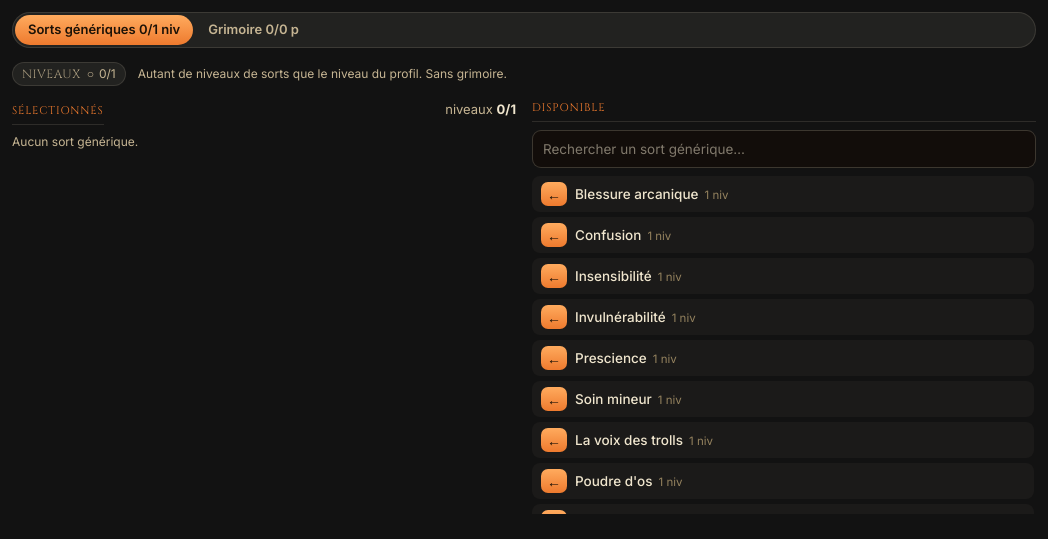
it: MagiePanel (vue) › propose les trois paliers de grimoire et le compteur de pages
Click the radio button "Grimoire 0/0 p": {"x": 254, "y": 30} [195, 15, 312, 44]
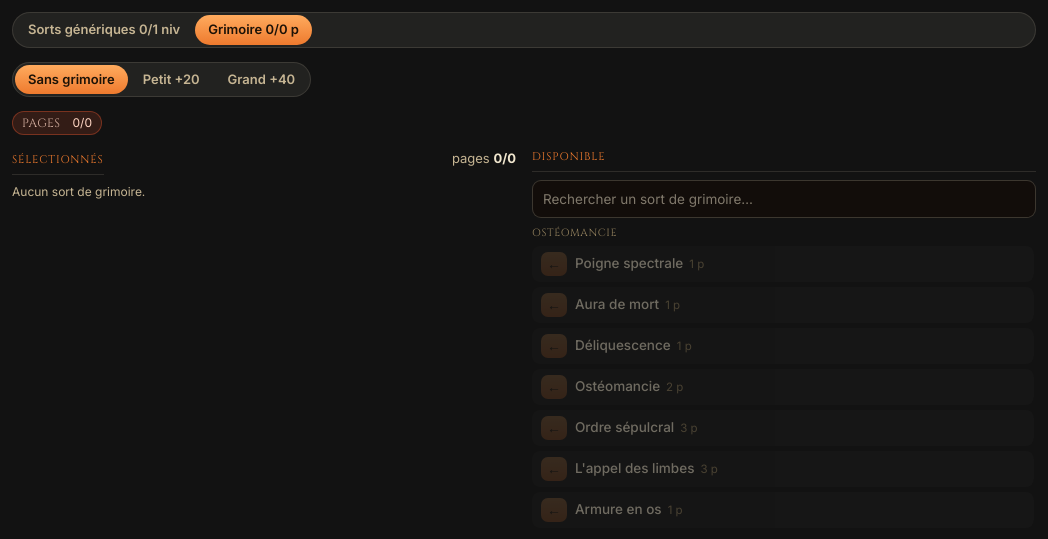
Expected: the radio button "Petit +20" is shown, [130, 64, 213, 94]
Expected: the radio button "Grand +40" is shown, [215, 64, 308, 94]
Expected: the text "Pages" is shown, [22, 114, 60, 132]
